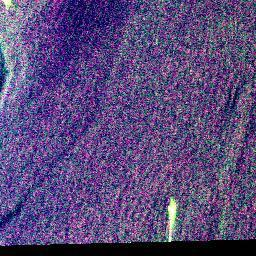Ship: (167, 197, 179, 226), (1, 0, 13, 7)
